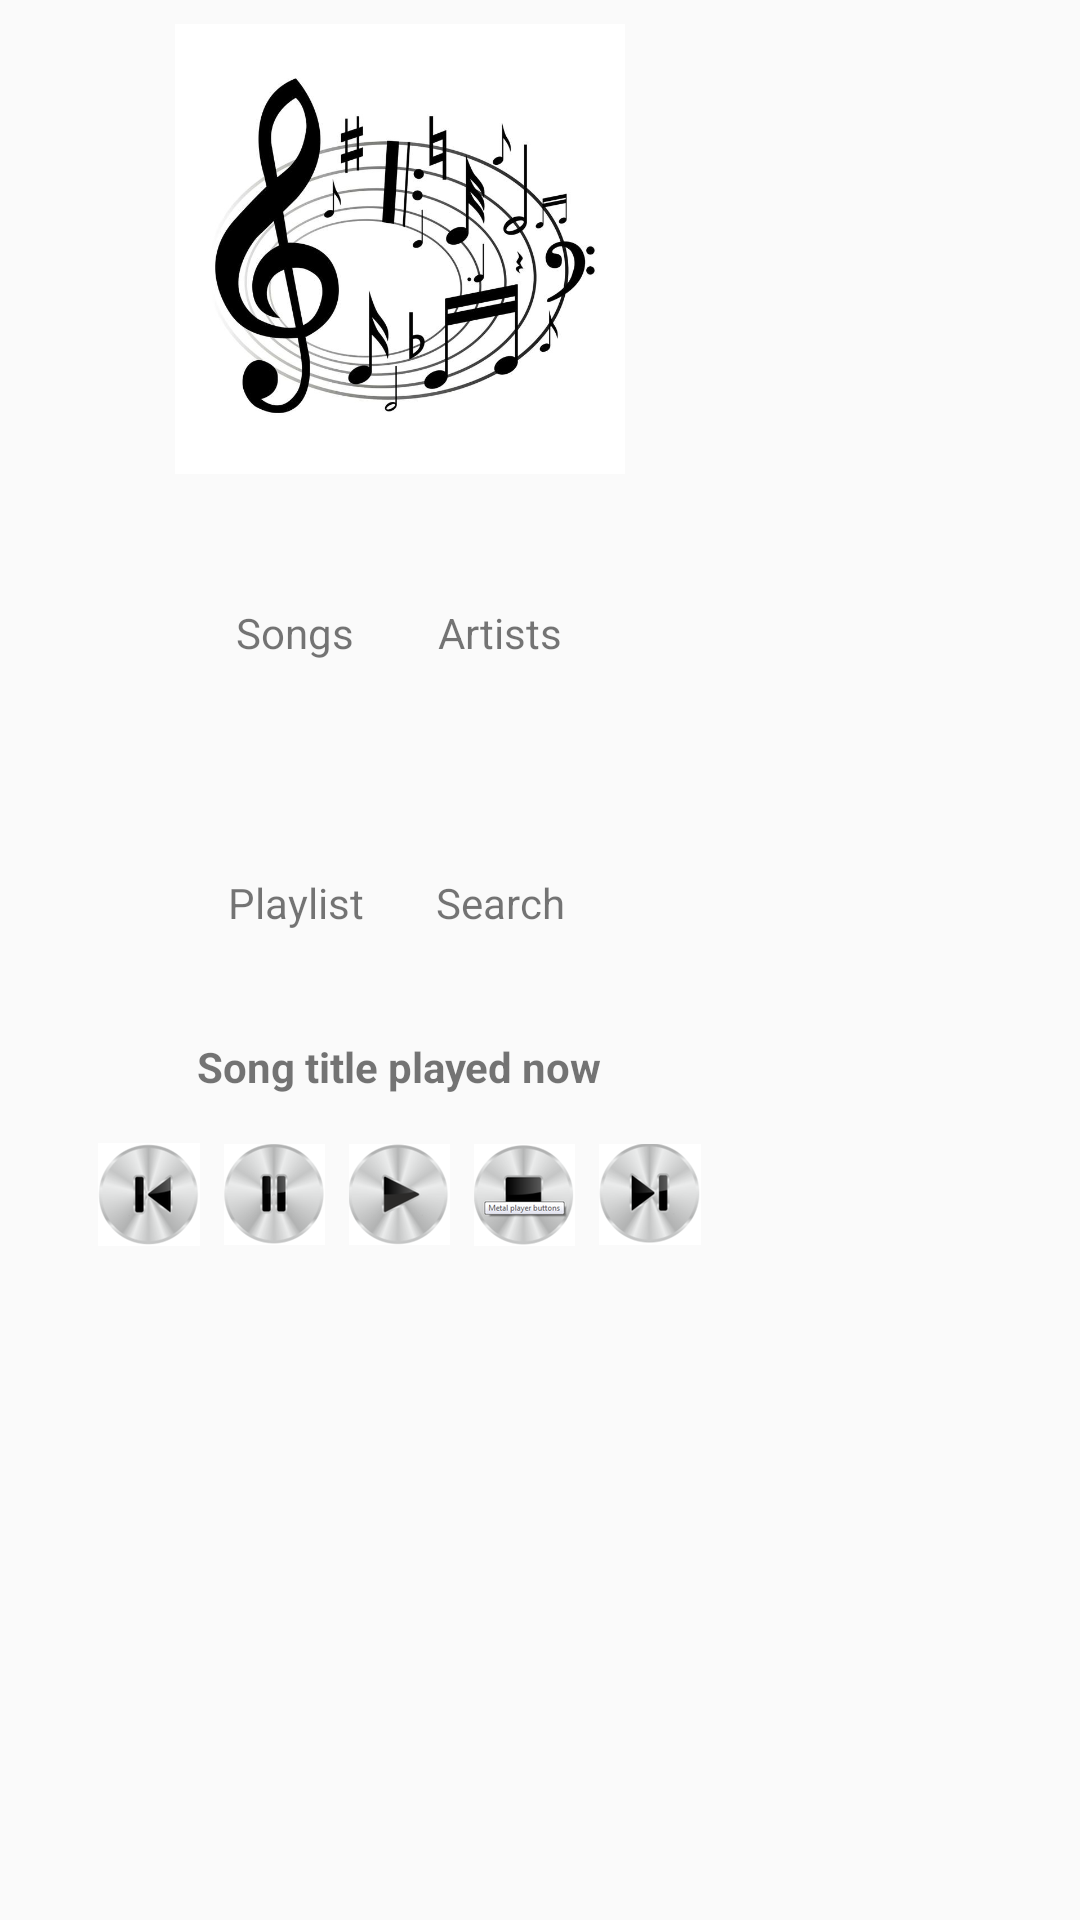

Named icons in this screenshot (1080×1920) and their bounding boxes, rect(x1, y1, x2, y2):
next: rect(600, 1144, 699, 1243)
pause: rect(225, 1144, 323, 1243)
previous: rect(99, 1145, 198, 1244)
stop: rect(474, 1145, 573, 1244)
